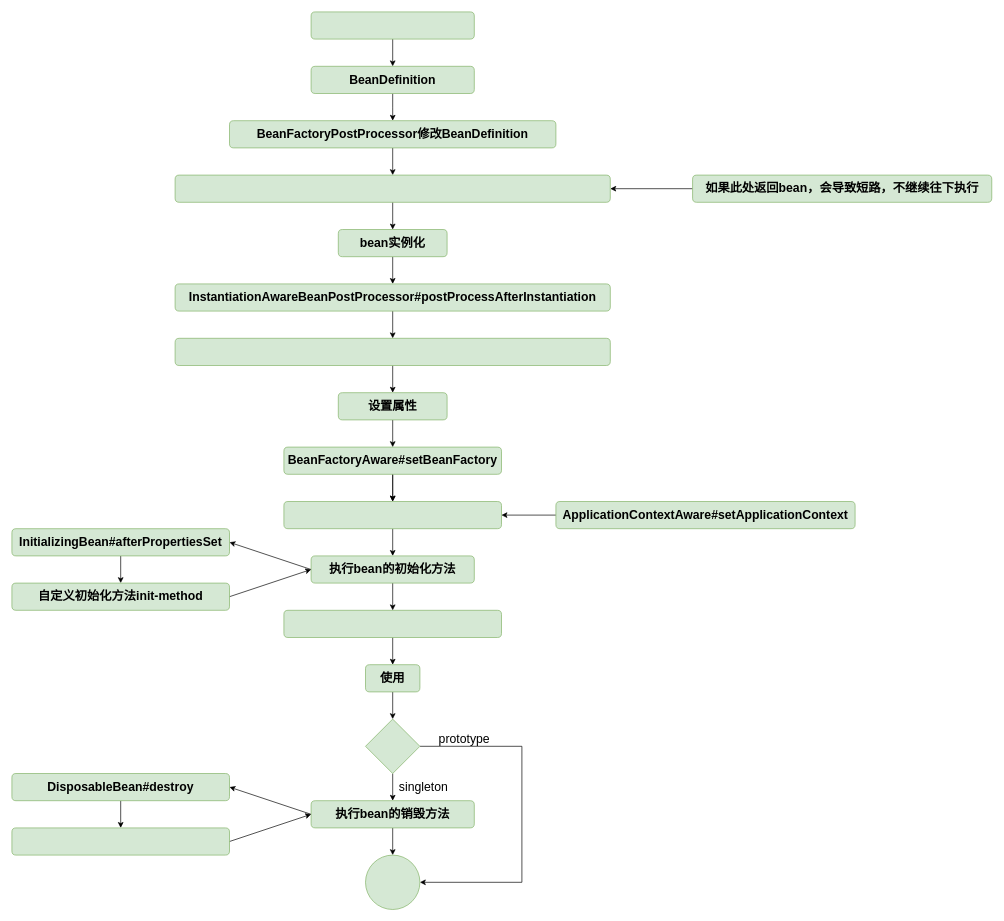
This 1004x921 diagram has some shape labels left out. Each missing label, with the centre of its shape:
"BeanPostProcessor前置处理 postProcessBeforeInitializaiton" belongs at pixel 392 515.
"BeanPostProcessor后置处理 postProcessAfterInitializaiton" belongs at pixel 392 624.
"InstantiationAwareBeanPostProcessor#postProcessBeforeInstantiation" belongs at pixel 392 188.
"InstantiationAwareBeanPostProcessor#postProcessPropertyValues" belongs at pixel 392 352.
"scope？" belongs at pixel 392 746.
"XML文件或class文件" belongs at pixel 392 25.
"自定义销毁方法destroy-method" belongs at pixel 120 841.
